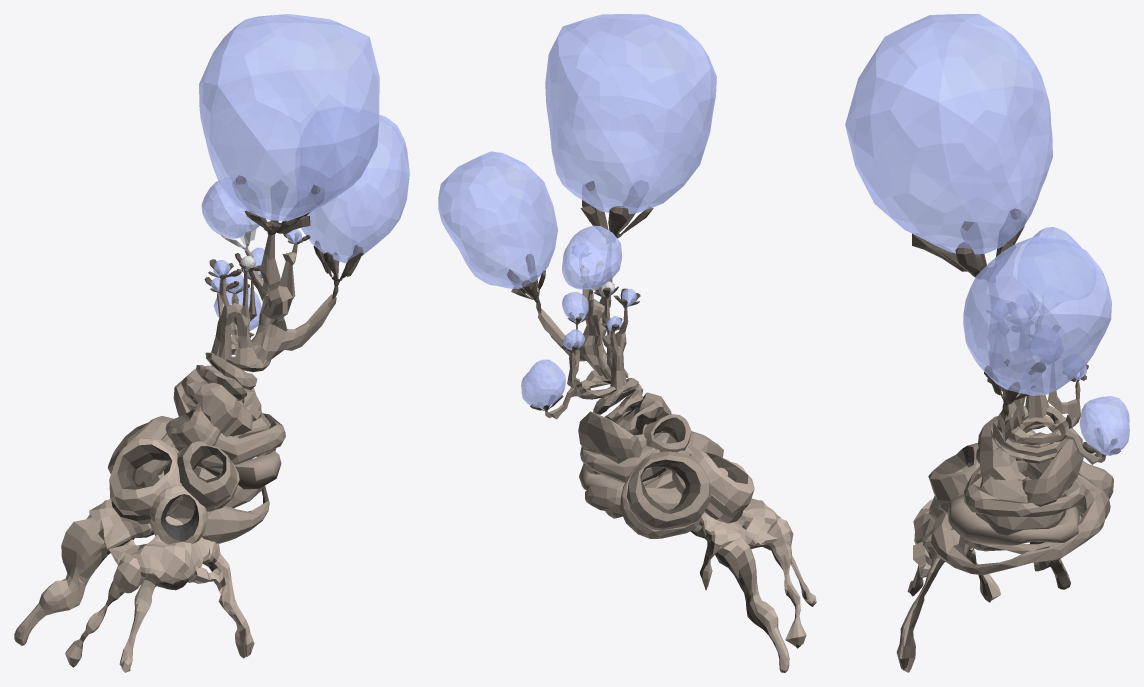
Rendered from Arbre_biomeair_bulbium_texturev2.fbx.
3 renders of one model, left to right at view 1: azimuth 30°, elevation 25°; view 2: azimuth 150°, elevation 25°; view 3: azimuth 270°, elevation 25°, orthographic. The views are drawn at different scales.
Visible parts, largest first — view 1: Icosphere.022, Torus.021, Icosphere.030, Torus.020, Torus.018, Torus.017, Icosphere.040, Icosphere.039, Icosphere.035, Torus.015, Icosphere.037, Icosphere.032 (+5 smaller); view 2: Icosphere.022, Icosphere.030, Torus.021, Icosphere.038, Torus.020, Icosphere.032, Torus.017, Icosphere.040, Torus.018, Torus.016, Icosphere.035, Icosphere.033 (+7 smaller); view 3: Icosphere.022, Icosphere.030, Torus.020, Torus.016, Torus.021, Torus.017, Icosphere.035, Torus.019, Icosphere.033, Torus.018, Icosphere.039, Torus.014 (+3 smaller).
Part boxes in pixels (bbox=[...]): Icosphere.022: bbox=[199, 14, 379, 221]; Torus.021: bbox=[14, 499, 254, 672]; Icosphere.030: bbox=[301, 114, 409, 263]; Torus.020: bbox=[137, 413, 285, 543]; Torus.018: bbox=[245, 228, 336, 364]; Torus.017: bbox=[181, 344, 270, 436]; Icosphere.040: bbox=[109, 438, 182, 524]; Icosphere.039: bbox=[177, 441, 239, 512]; Icosphere.035: bbox=[232, 175, 324, 235]; Torus.015: bbox=[211, 270, 258, 365]; Icosphere.037: bbox=[149, 482, 210, 544]; Icosphere.032: bbox=[201, 181, 259, 238]; Icosphere.022: bbox=[545, 14, 716, 214]; Icosphere.030: bbox=[438, 151, 557, 288]; Torus.021: bbox=[690, 498, 816, 672]; Icosphere.038: bbox=[620, 449, 710, 538]; Torus.020: bbox=[580, 433, 681, 518]; Icosphere.032: bbox=[562, 225, 622, 289]; Torus.017: bbox=[577, 370, 671, 435]; Icosphere.040: bbox=[672, 450, 754, 523]; Torus.018: bbox=[538, 243, 612, 379]; Torus.016: bbox=[578, 411, 654, 474]; Icosphere.035: bbox=[580, 181, 653, 243]; Icosphere.033: bbox=[521, 359, 565, 407]; Icosphere.022: bbox=[845, 14, 1052, 254]; Icosphere.030: bbox=[963, 236, 1111, 395]; Torus.020: bbox=[931, 466, 1105, 575]; Torus.016: bbox=[976, 431, 1083, 535]; Torus.021: bbox=[896, 499, 1070, 672]; Torus.017: bbox=[978, 405, 1067, 481]; Icosphere.035: bbox=[912, 208, 1026, 282]; Torus.019: bbox=[947, 494, 1079, 546]; Icosphere.033: bbox=[1079, 396, 1129, 455]; Torus.018: bbox=[987, 282, 1041, 441]; Icosphere.039: bbox=[928, 443, 979, 514]; Torus.014: bbox=[1047, 363, 1105, 464].
Bounding box in the file's own units: 647 × 997 × 378.
